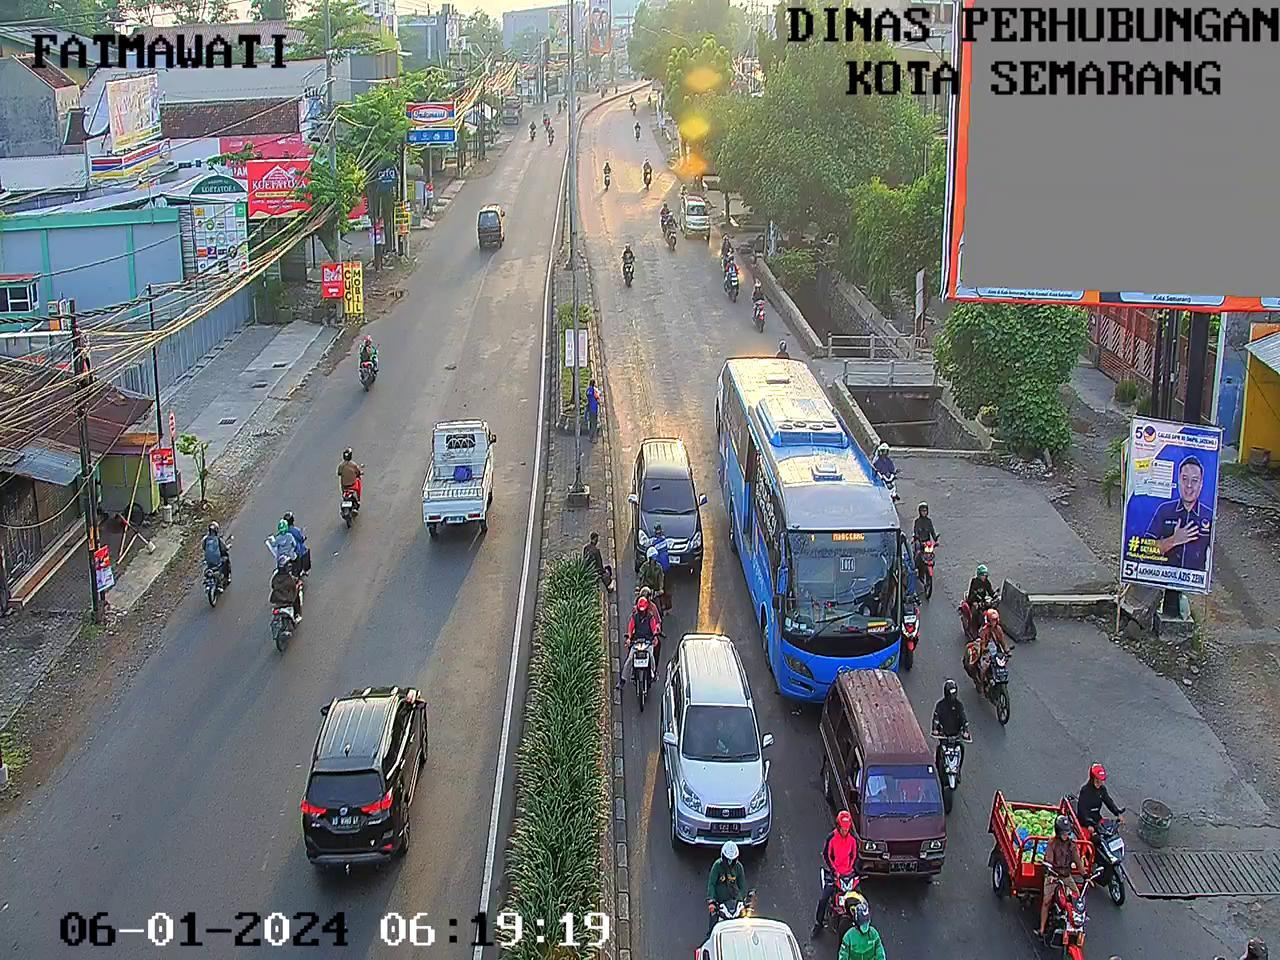bus: (713, 346, 914, 682)
car: (813, 659, 954, 882), (661, 622, 782, 859), (627, 425, 716, 578), (690, 912, 815, 960), (681, 189, 714, 245)
motorcycle: (985, 786, 1097, 960), (1069, 754, 1134, 905), (809, 801, 877, 935), (928, 673, 980, 818), (965, 605, 1024, 730), (616, 583, 667, 713), (701, 837, 765, 930), (834, 892, 892, 960), (915, 497, 951, 597), (962, 564, 1008, 638), (894, 571, 927, 675), (636, 542, 672, 623), (870, 436, 907, 509), (616, 234, 641, 294), (717, 251, 743, 309), (746, 273, 770, 334), (715, 230, 740, 271), (771, 333, 796, 366), (600, 152, 617, 200), (639, 155, 658, 196), (661, 210, 679, 248), (659, 197, 673, 232), (630, 117, 645, 147), (681, 179, 691, 204), (625, 92, 637, 107), (629, 98, 638, 115), (647, 89, 653, 109)
